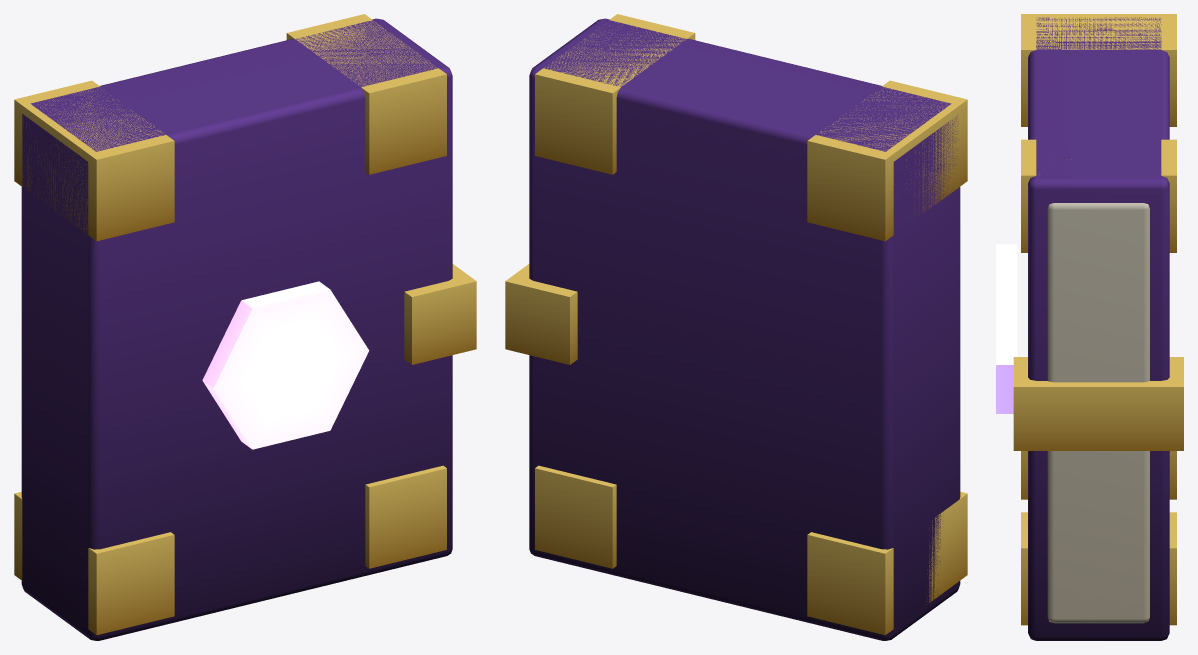
Rendered from spell_tome.glb.
The picture shows the model from 3 angles, left to right: view 1: azimuth 30°, elevation 25°; view 2: azimuth 150°, elevation 25°; view 3: azimuth 270°, elevation 25°; orthographic projection. The views are drawn at different scales.
Parts seen in each view (by area): view 1: spell_tome, spell_tome_trim, spell_tome_glow; view 2: spell_tome, spell_tome_trim; view 3: spell_tome, spell_tome_trim, spell_tome_glow.
Part boxes in pixels (x1,y1,x2,y2): spell_tome: [21, 18, 452, 640]; spell_tome_trim: [14, 14, 476, 635]; spell_tome_glow: [202, 281, 369, 449]; spell_tome: [529, 18, 960, 640]; spell_tome_trim: [505, 14, 967, 635]; spell_tome: [1028, 17, 1169, 640]; spell_tome_trim: [1013, 14, 1183, 625]; spell_tome_glow: [996, 244, 1017, 413].
Size of the model in its own units: 0.58 by 0.72 by 0.265.
